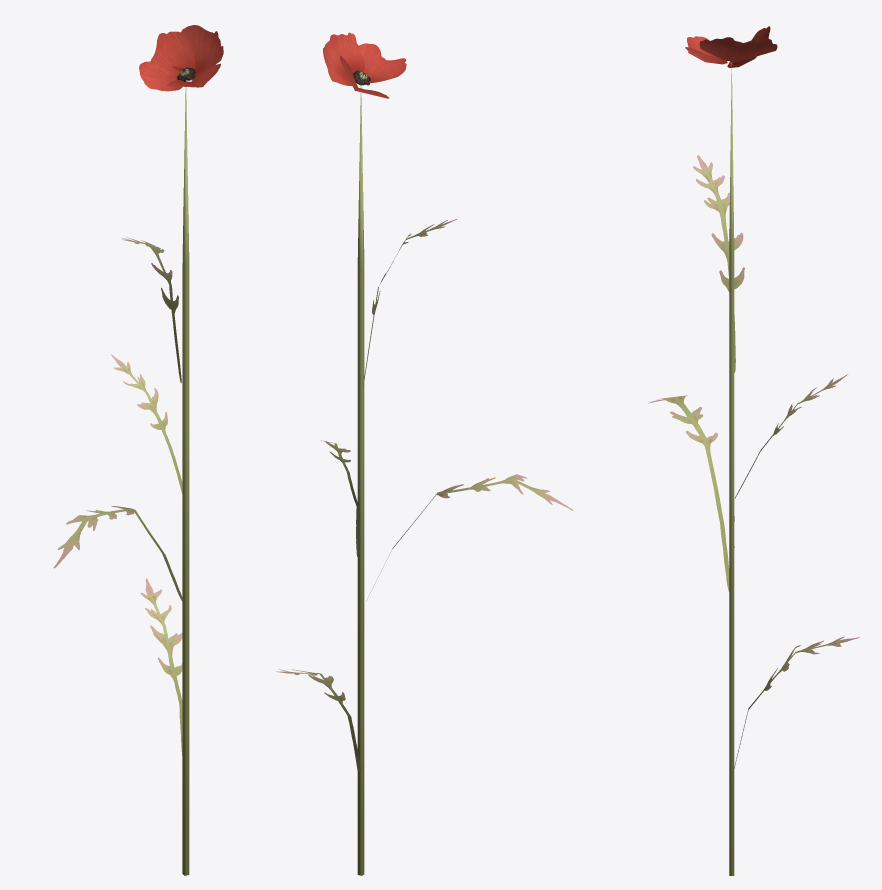
File: flowers3.glb
3 views of the same model, side by side, from view 1: azimuth 30°, elevation 25°; view 2: azimuth 150°, elevation 25°; view 3: azimuth 270°, elevation 25° (orthographic). The views are drawn at different scales.
Parts seen in each view (by area): view 1: Object_8; view 2: Object_8; view 3: Object_8.
Part boxes in pixels (<box>): Object_8: <box>53,25,223,875</box>; Object_8: <box>276,32,573,875</box>; Object_8: <box>648,26,859,875</box>.
Size of the model in its own units: 10.05 by 35.63 by 9.3.
1 material, 1 textured.
